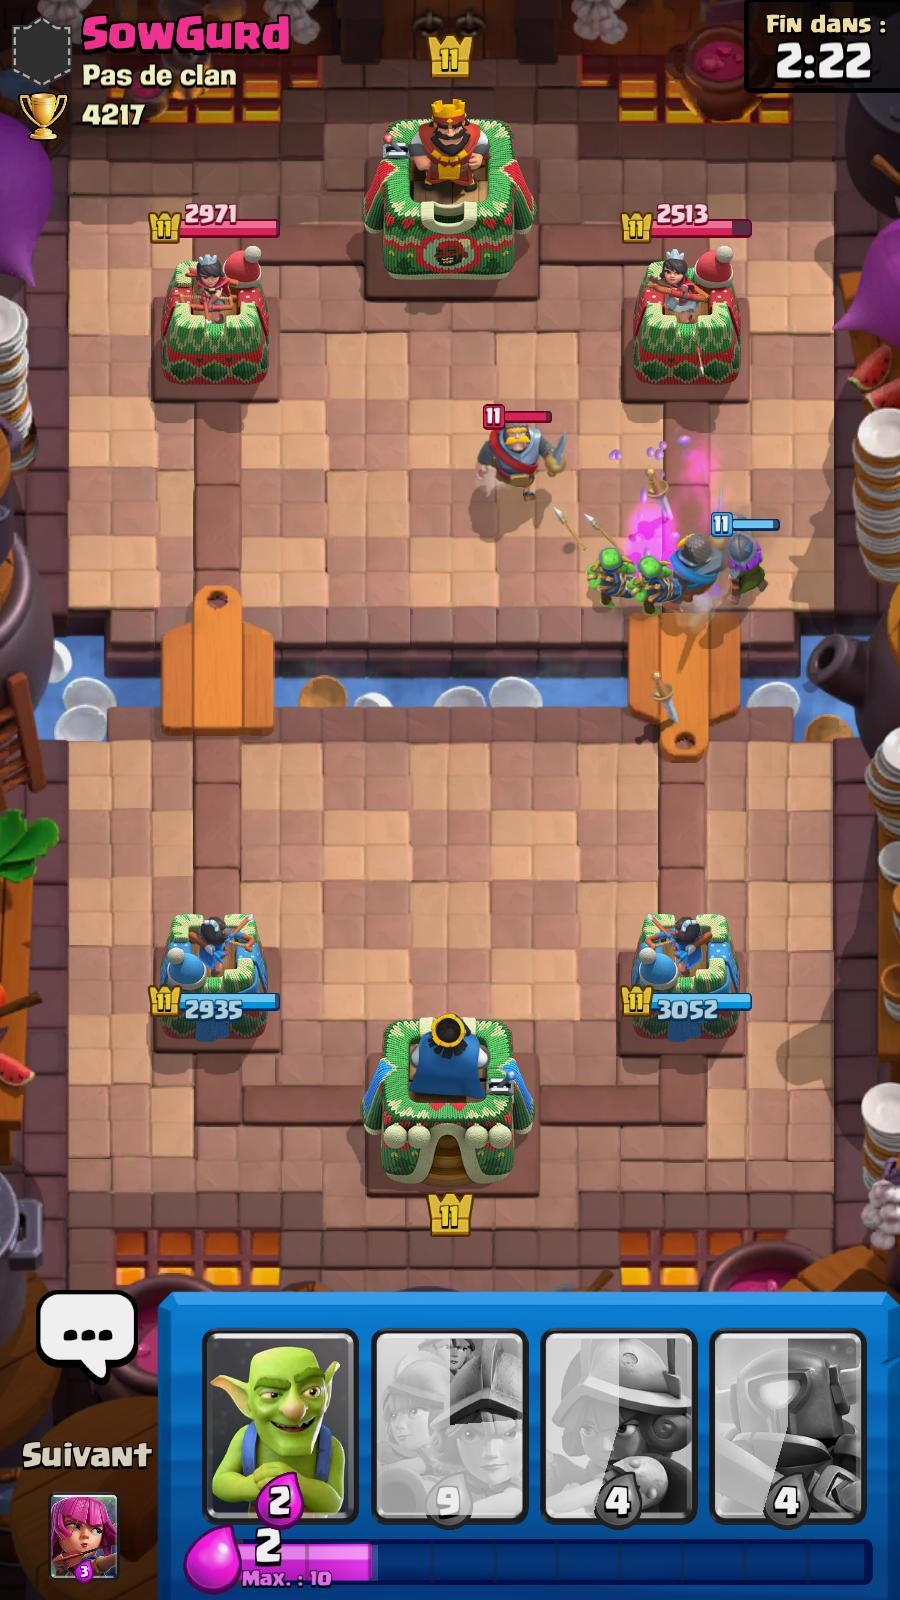chevalier: (476, 401, 567, 504), (665, 533, 723, 602)
gobelin_lances: (622, 548, 678, 609), (588, 544, 634, 607)
mousquetaire: (712, 511, 775, 596)
